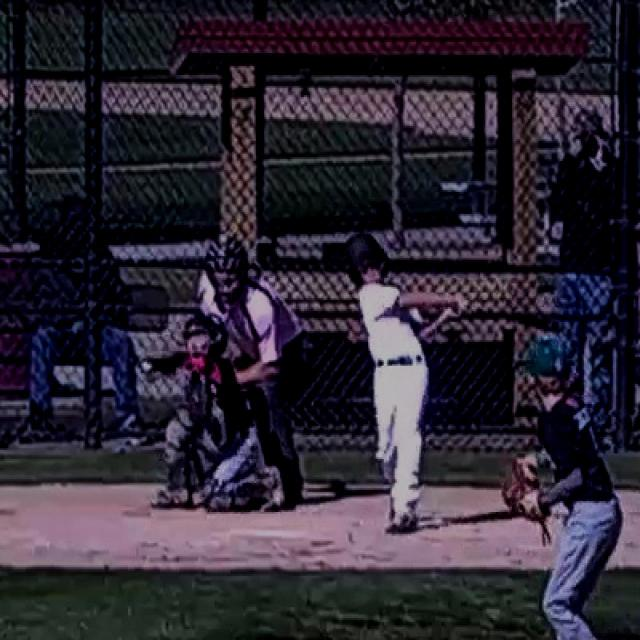baseball: (141, 361, 153, 371)
